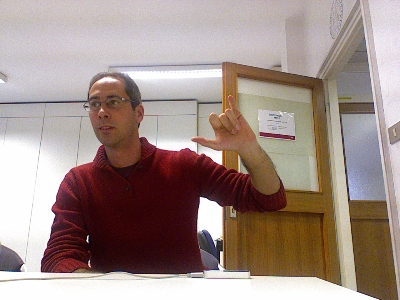六六六: (189, 94, 256, 152)
